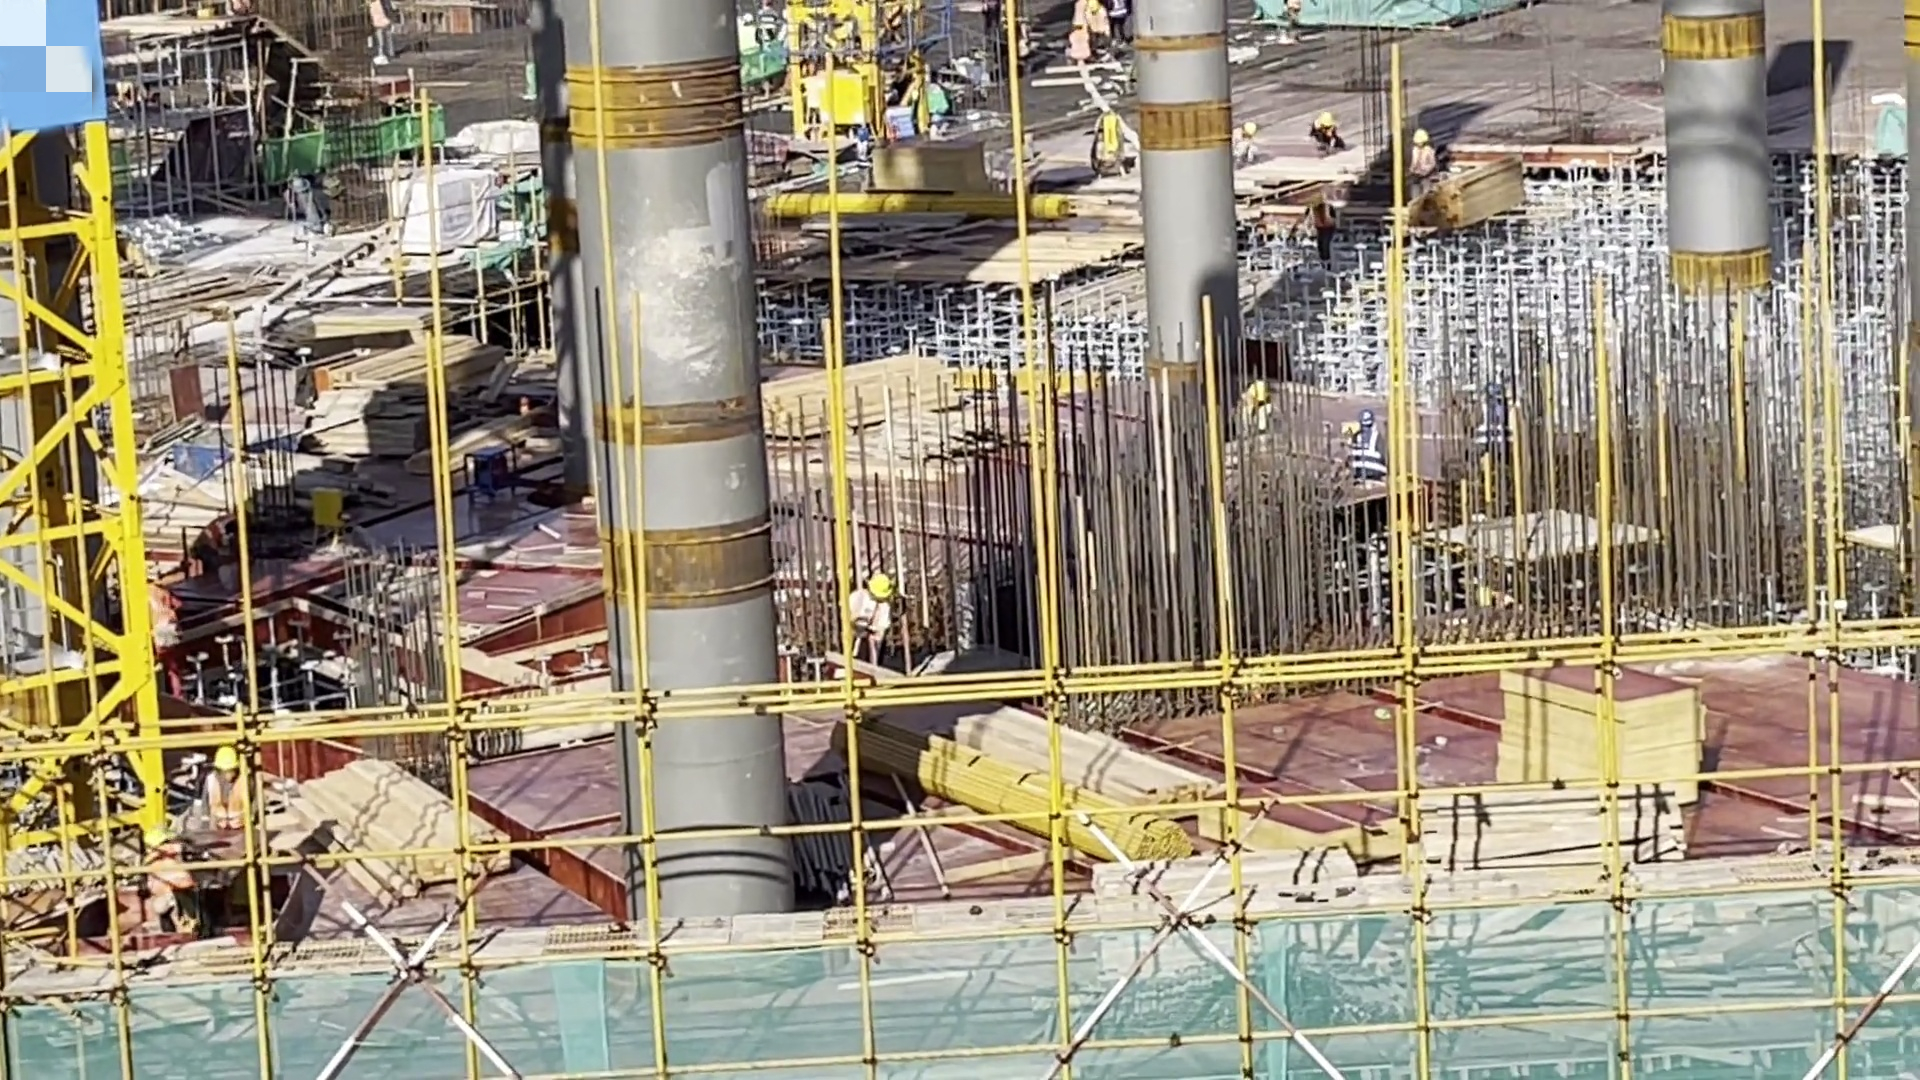ebox: (815, 72, 873, 129), (305, 478, 348, 530), (1091, 115, 1128, 175)
helmet: (212, 738, 239, 778), (865, 564, 892, 600), (1243, 375, 1271, 405), (1352, 411, 1377, 431), (1315, 107, 1338, 127), (1243, 117, 1262, 136), (1415, 127, 1430, 139)
person: (195, 743, 263, 838), (840, 575, 895, 663), (1402, 126, 1449, 205), (1345, 399, 1384, 478), (1308, 100, 1347, 166), (1226, 118, 1260, 164)
vest: (209, 775, 247, 825), (1350, 434, 1382, 478)
wood: (293, 762, 521, 886), (773, 369, 985, 426)
